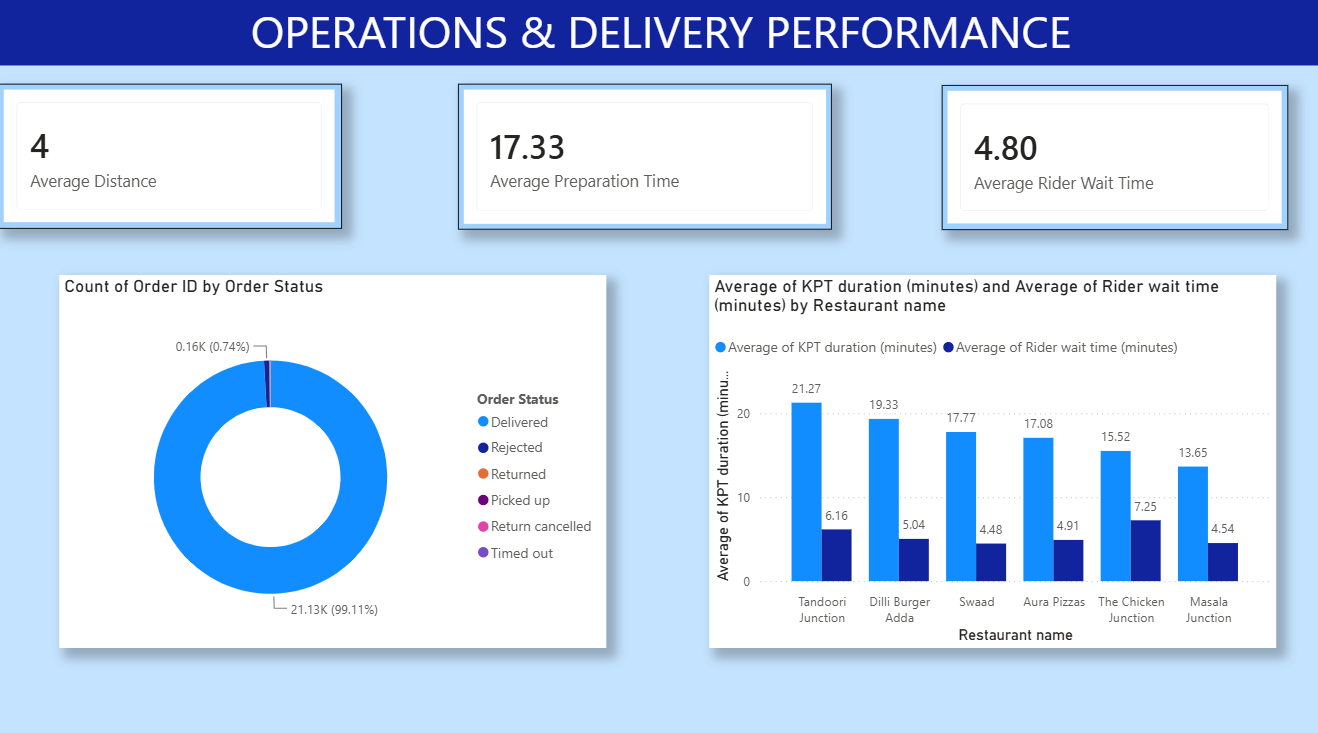

The dashboard page shown, as its layout file describes it:
{"tool":"powerbi","page":{"name":"OPERATIONS AND DELIVERY","canvas":[1280,720],"ordinal":1},"visuals":[{"type":"cardVisual","fields":{"Data":["order_history_kaggle_data.Average Distance"]},"box":[0,85.9,331.8,140],"z":0},{"type":"cardVisual","fields":{"Data":["order_history_kaggle_data.Average Preparation Time"]},"box":[443.5,85.9,361.2,141.2],"z":1000},{"type":"cardVisual","fields":{"Data":["order_history_kaggle_data.Average Rider Wait Time"]},"box":[910.6,87.1,334.1,140],"z":2000},{"type":"clusteredColumnChart","fields":{"Y":["Avg(order_history_kaggle_data.KPT duration (minutes))","Avg(order_history_kaggle_data.Rider wait time (minutes))"],"Category":["order_history_kaggle_data.Restaurant name"]},"box":[687.1,270.6,547.1,360],"z":3000},{"type":"donutChart","fields":{"Y":["CountNonNull(order_history_kaggle_data.Order ID)"],"Category":["order_history_kaggle_data.Order Status"]},"box":[58.8,270.6,528.2,360],"z":4000},{"type":"textbox","box":[0,0,1280,68.2],"z":5000}]}

Visuals, with their boxes in screenshot pixels (x1, y1, x2, y2), scaled from the page's 1280x720 canvas onto the 1318x733 screenshot:
cardVisual - order_history_kaggle_data.Average Distance: 0:87:342:230
cardVisual - order_history_kaggle_data.Average Preparation Time: 457:87:829:231
cardVisual - order_history_kaggle_data.Average Rider Wait Time: 938:89:1282:231
clusteredColumnChart - Avg(order_history_kaggle_data.KPT duration (minutes)) x Avg(order_history_kaggle_data.Rider wait time (minutes)): 707:275:1271:642
donutChart - CountNonNull(order_history_kaggle_data.Order ID) x order_history_kaggle_data.Order Status: 61:275:604:642
textbox: 0:0:1317:69
